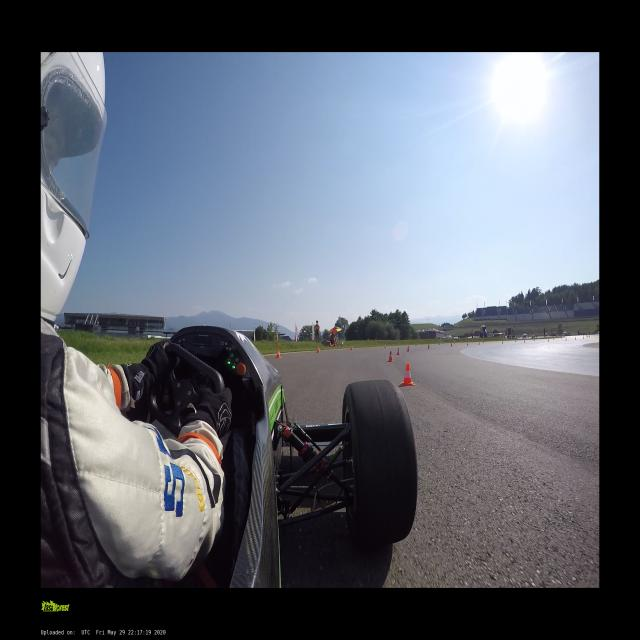orange_cone: (402, 363, 414, 386), (275, 349, 281, 358), (388, 351, 393, 361), (396, 348, 400, 355), (317, 346, 320, 353), (407, 346, 409, 352), (351, 345, 352, 350), (330, 342, 331, 346), (385, 344, 386, 348), (428, 345, 429, 348)
